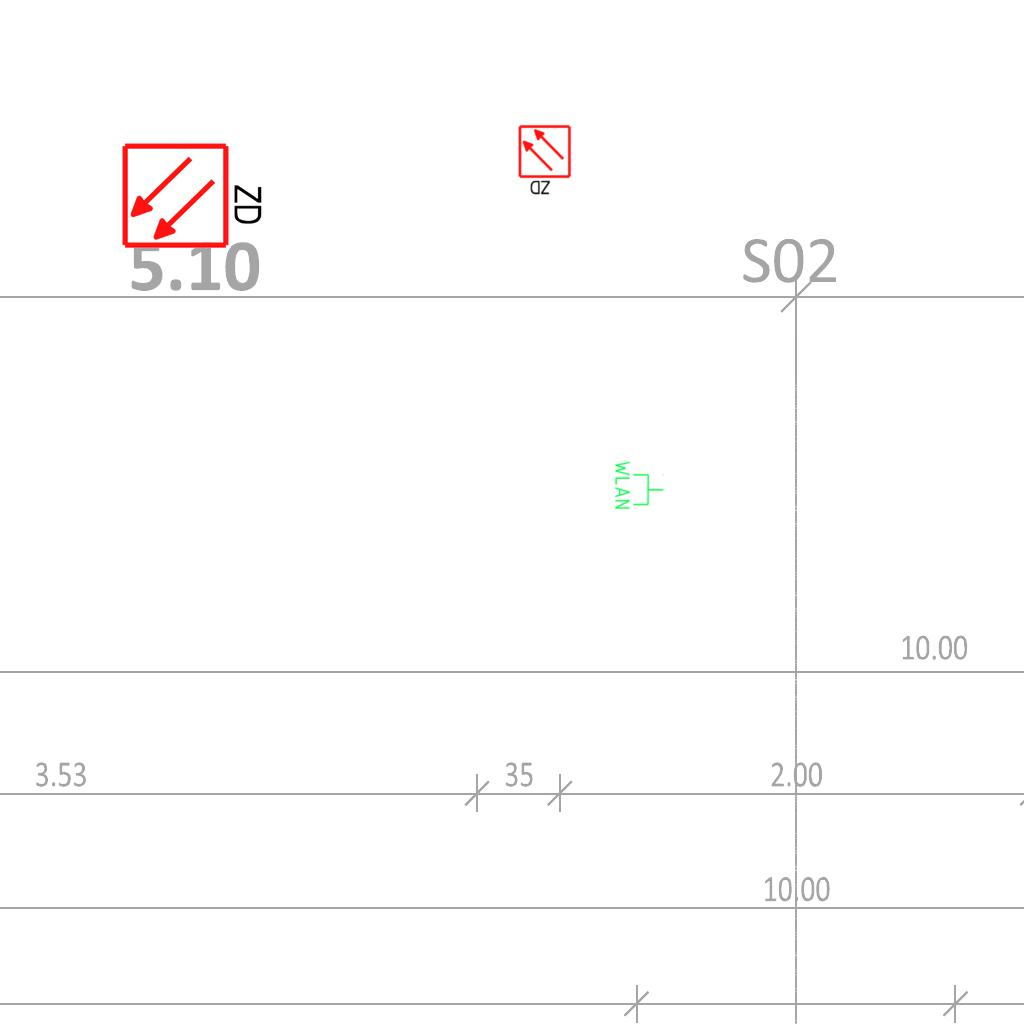WLAN: (613, 459, 665, 511)
ZD_Melder_in_Zwischendecke_mit_Revisionsoeffnung_mind_40_x_40_cm: (120, 137, 269, 251), (517, 124, 574, 198)
